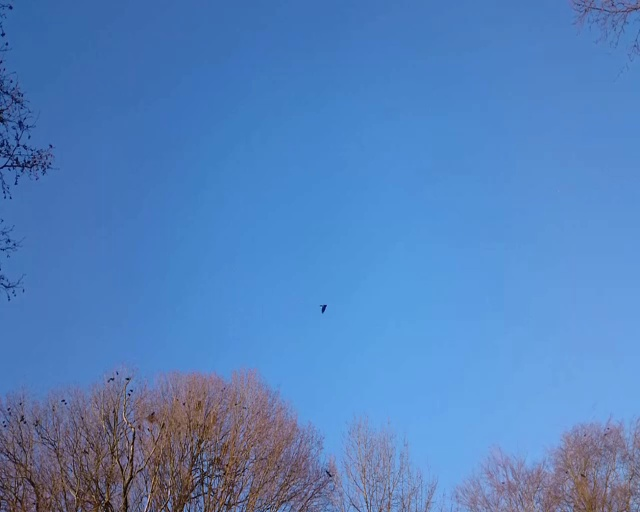BIRD: (320, 303, 327, 313)
